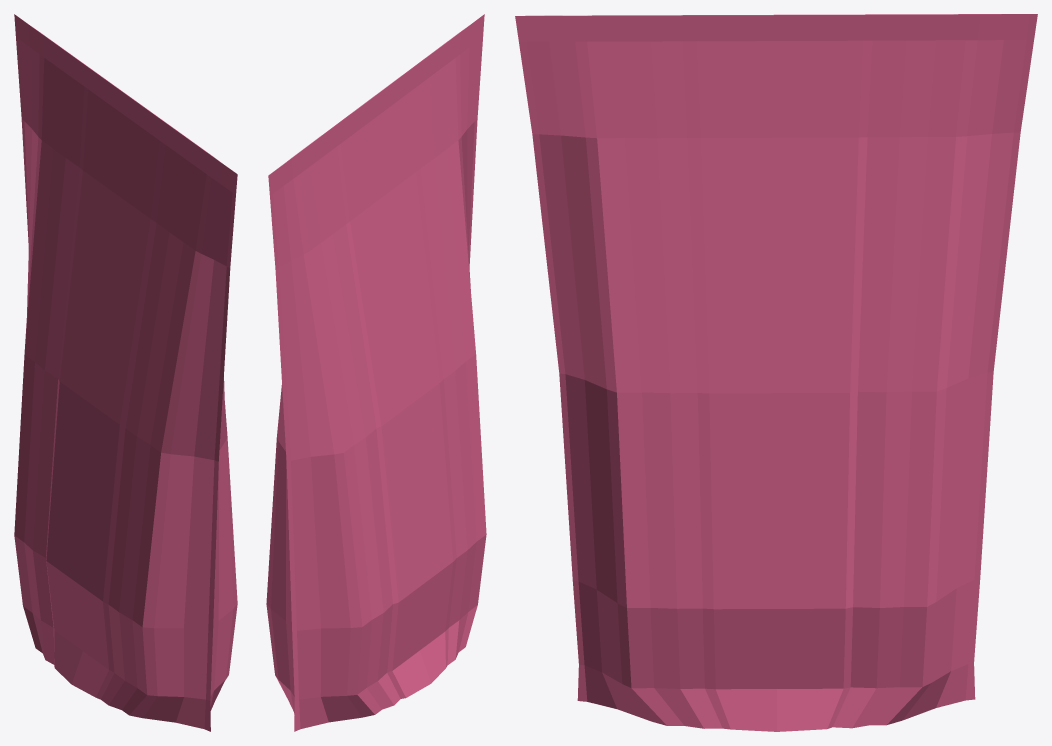
Rendered from zestopack.glb.
The picture shows the model from 3 angles, left to right: view 1: azimuth 30°, elevation 25°; view 2: azimuth 150°, elevation 25°; view 3: azimuth 270°, elevation 25°; orthographic projection. The views are drawn at different scales.
Visible parts, largest first — view 1: Cube; view 2: Cube; view 3: Cube.
Boxes of the visible parts, <box> form: Cube: <box>14,14,237,731</box>; Cube: <box>266,14,486,731</box>; Cube: <box>515,14,1037,731</box>.
Size of the model in its own units: 0.8273 by 4.17 by 2.88.
